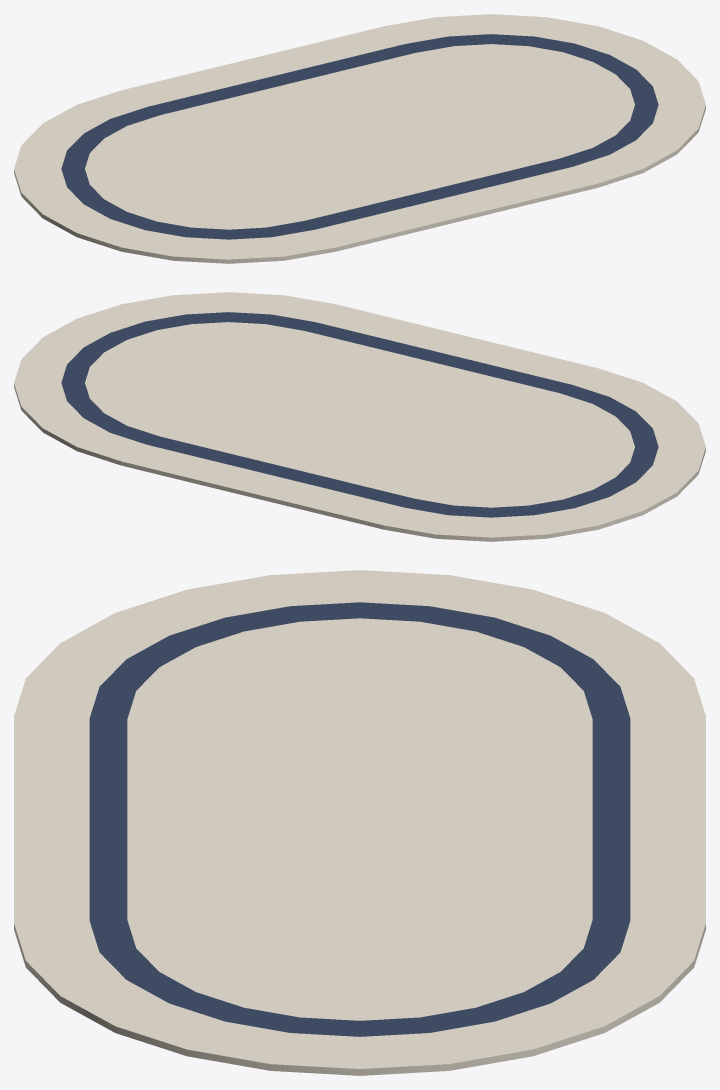
The model's file is rug-rounded.glb.
The picture shows the model from 3 angles, top to bottom: view 1: azimuth 30°, elevation 25°; view 2: azimuth 150°, elevation 25°; view 3: azimuth 270°, elevation 25°; orthographic projection. The views are drawn at different scales.
Visible parts, largest first — view 1: rug-rounded; view 2: rug-rounded; view 3: rug-rounded.
Boxes of the visible parts, box(x1,y1,x2,y2) form: rug-rounded: box(14, 14, 705, 263); rug-rounded: box(14, 292, 705, 541); rug-rounded: box(14, 570, 705, 1075).
Size of the model in its own units: 3.14 by 0.0199 by 1.84.
